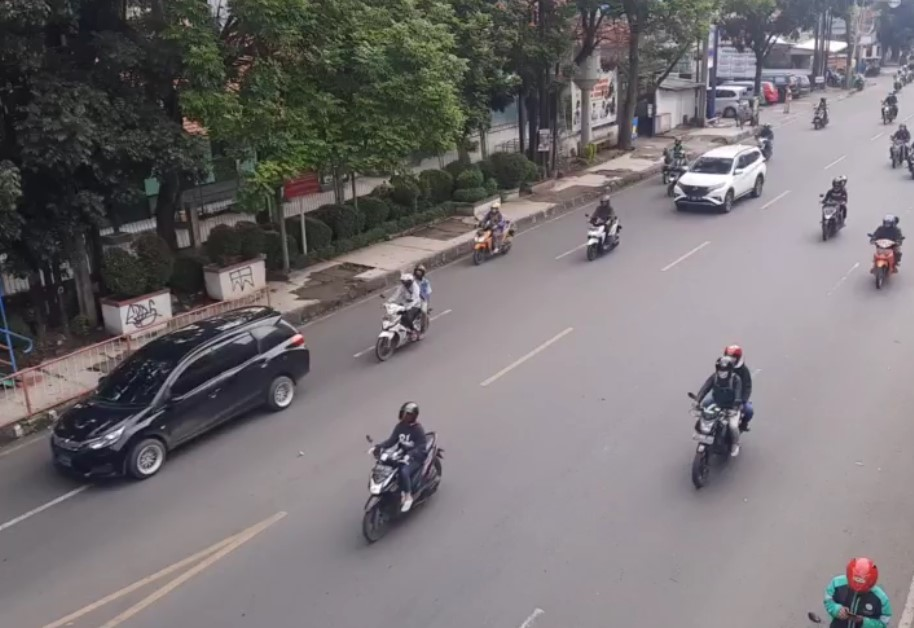motor: (354, 406, 452, 540), (683, 343, 758, 494), (372, 266, 439, 359), (862, 214, 908, 298), (466, 202, 516, 264), (581, 192, 626, 259), (820, 173, 852, 247)
